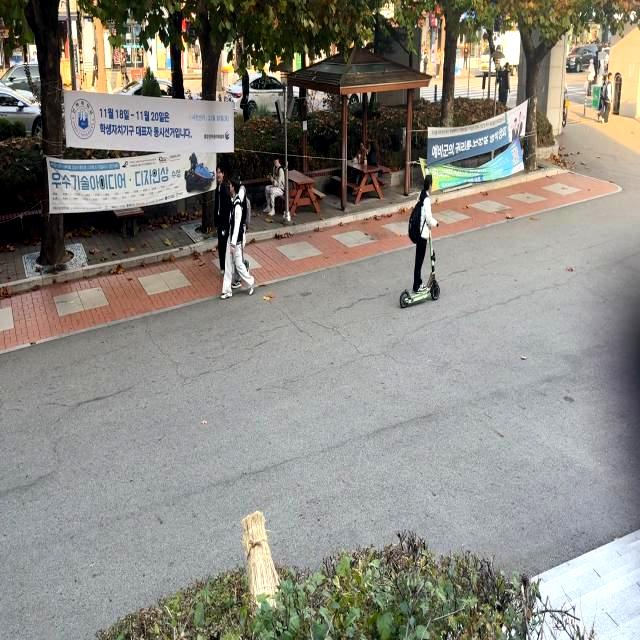bare_head: (414, 171, 439, 193)
human: (399, 158, 431, 287)
kickboard: (384, 274, 463, 311)
